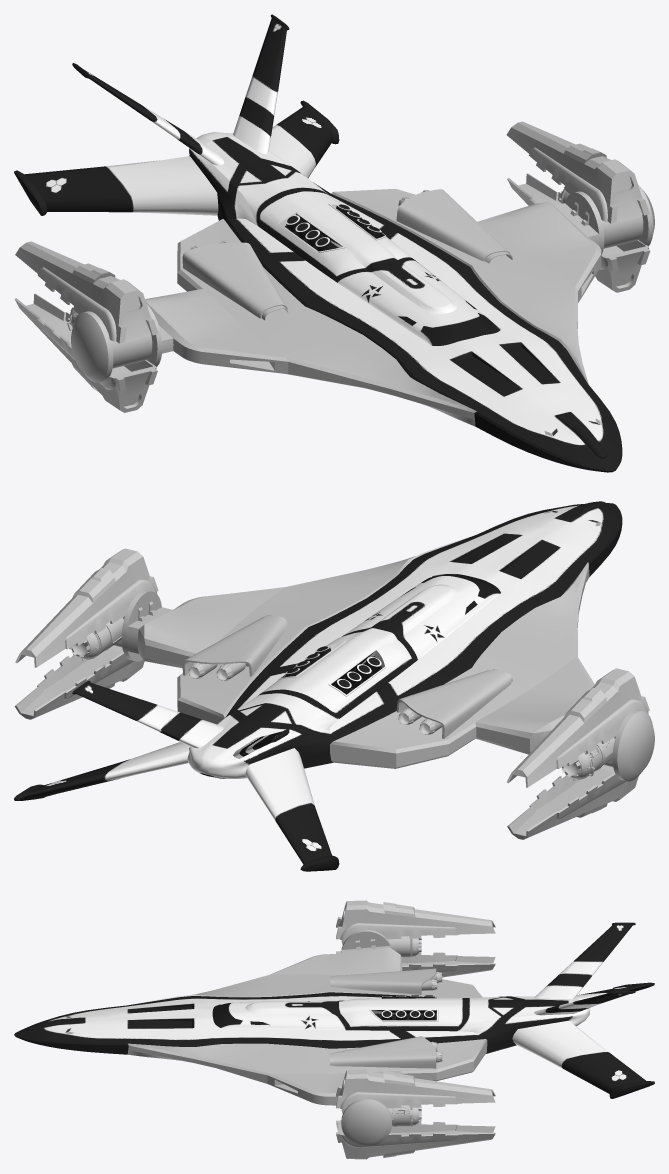
Rendered from 3Done.fbx.
The picture shows the model from 3 angles, top to bottom: view 1: azimuth 30°, elevation 25°; view 2: azimuth 150°, elevation 25°; view 3: azimuth 270°, elevation 25°; orthographic projection. The views are drawn at different scales.
Visible parts, largest first — view 1: base_low, tail2_low, wings_low, double_wings_low, connection_wings_low, engine_low, controlcab_low, connection_low, generator_low, glass_low, engineCore_low; view 2: base_low, wings_low, double_wings_low, tail2_low, connection_wings_low, engine_low, controlcab_low, generator_low, connection_low, jet_engine_low, jet_low, engineCore_low (+1 smaller); view 3: double_wings_low, base_low, tail2_low, wings_low, connection_wings_low, engine_low, generator_low, controlcab_low, connection_low, jet_engine_low, engineCore_low, glass_low.
Boxes of the visible parts, x1,y1,x2,y2 form: base_low: [225, 194, 622, 472]; tail2_low: [14, 14, 339, 225]; wings_low: [177, 188, 588, 426]; double_wings_low: [14, 121, 650, 412]; connection_wings_low: [145, 201, 601, 373]; engine_low: [182, 189, 512, 320]; controlcab_low: [332, 257, 500, 345]; connection_low: [71, 184, 654, 382]; generator_low: [258, 194, 412, 279]; glass_low: [397, 300, 499, 345]; engineCore_low: [285, 204, 381, 251]; base_low: [227, 501, 622, 743]; wings_low: [177, 536, 589, 768]; double_wings_low: [14, 548, 649, 839]; tail2_low: [14, 680, 339, 871]; connection_wings_low: [126, 587, 594, 754]; engine_low: [182, 615, 512, 738]; controlcab_low: [341, 576, 499, 663]; generator_low: [264, 628, 413, 718]; connection_low: [114, 590, 654, 781]; jet_engine_low: [69, 617, 614, 780]; jet_low: [188, 662, 442, 734]; engineCore_low: [285, 646, 381, 694]; double_wings_low: [336, 900, 495, 1159]; base_low: [14, 992, 485, 1054]; tail2_low: [457, 922, 654, 1098]; wings_low: [127, 974, 487, 1083]; connection_wings_low: [267, 939, 402, 1105]; engine_low: [330, 968, 436, 1068]; generator_low: [339, 997, 457, 1031]; controlcab_low: [220, 1000, 351, 1030]; connection_low: [341, 930, 391, 1146]; jet_engine_low: [387, 936, 421, 1126]; engineCore_low: [381, 995, 434, 1020]; glass_low: [212, 1003, 270, 1027].
Bounding box in the file's own units: 1787 × 502 × 2520.
